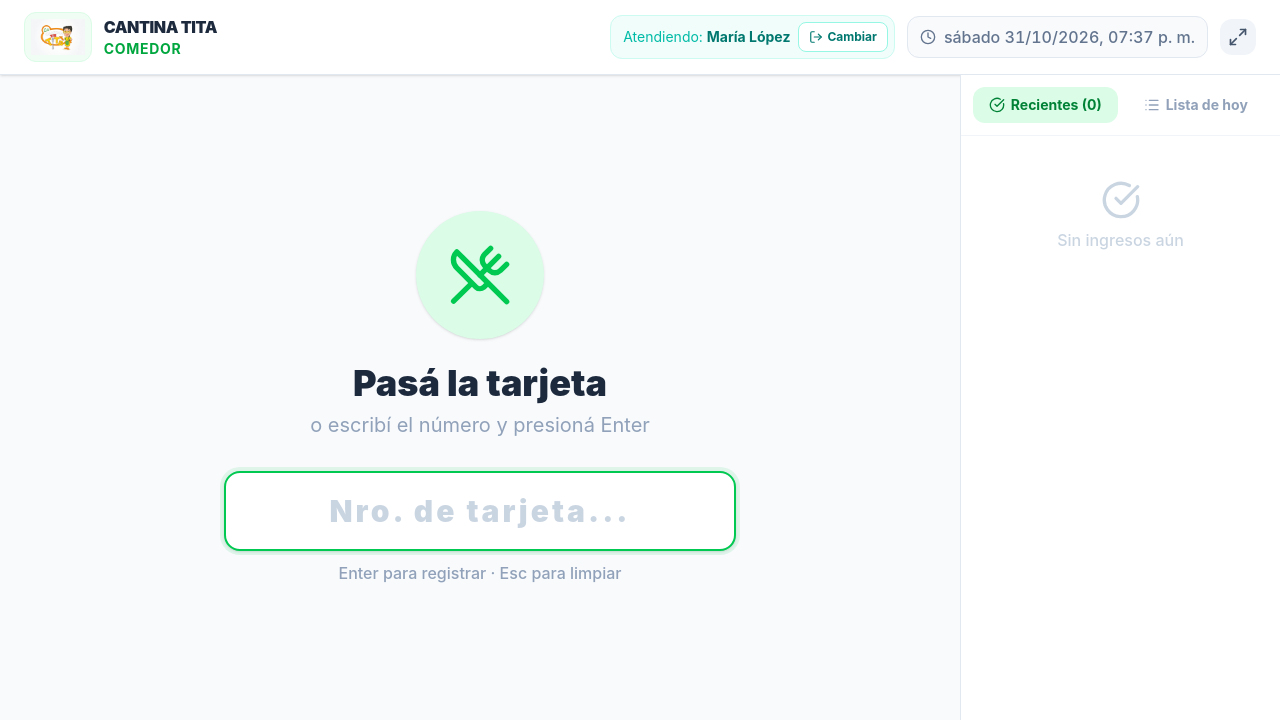
Comedor — flujo de escaneo › tarjeta BLOQUEADA → panel de error con mensaje de bloqueo
This screenshot has width=1280, height=720.
Type "T-001" into the field with placeholder "Nro. de tarjeta..." at {"x": 480, "y": 510}, box [224,470,736,550]
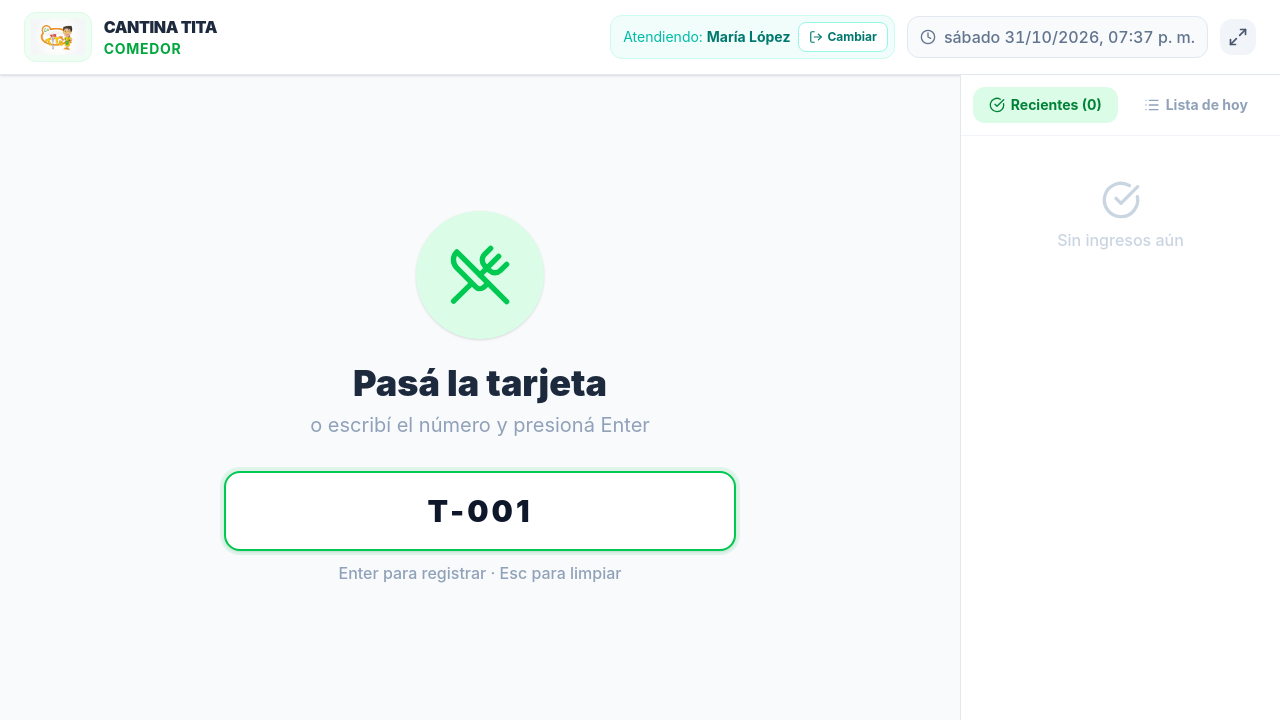
Press Enter
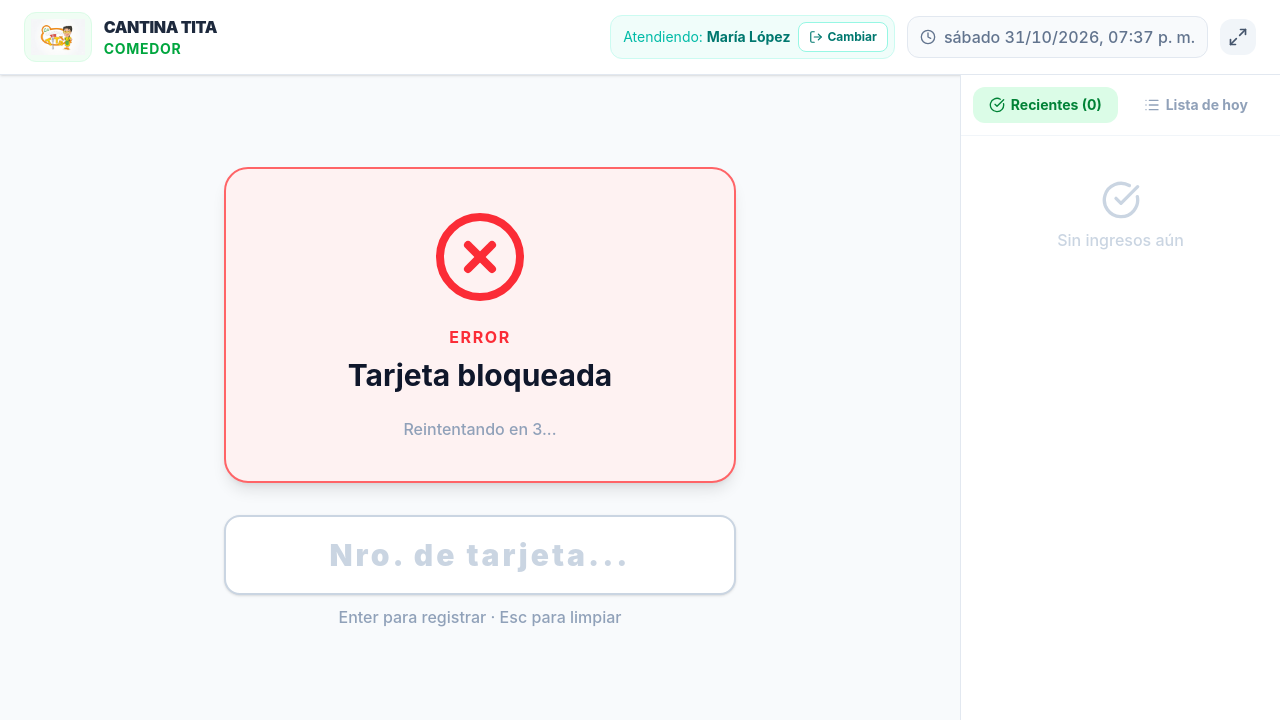
Result: the text "Tarjeta bloqueada" is shown at [348,356,612,392]
